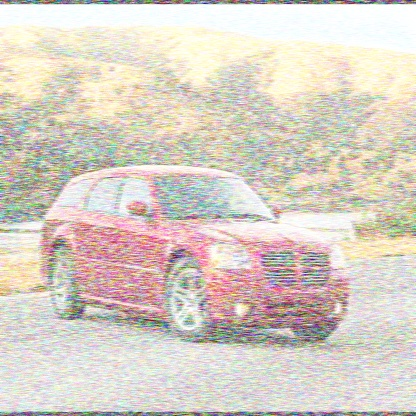Vehicle: (38, 164, 350, 346)
